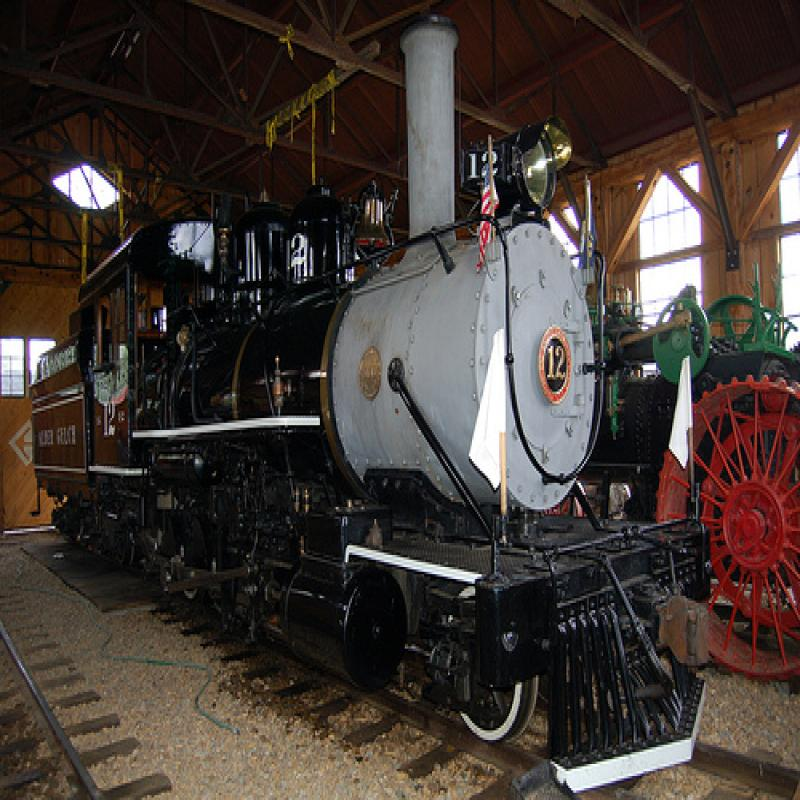train: (33, 8, 713, 796)
